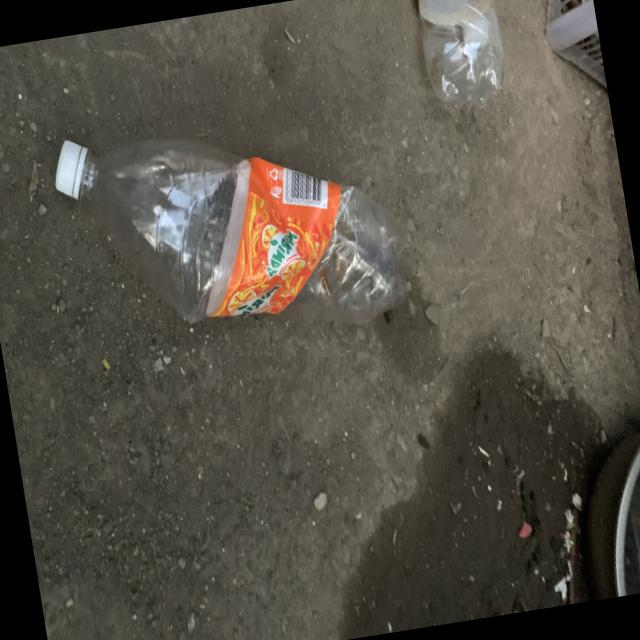Bottle: (55, 139, 404, 324)
